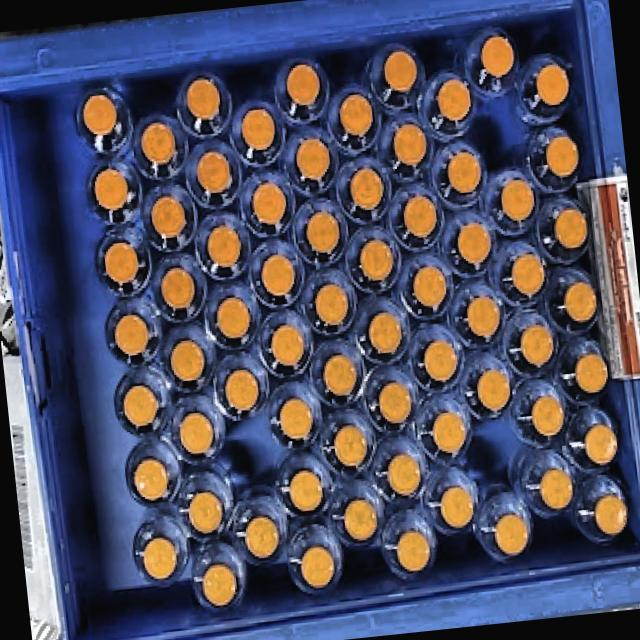vial: (78, 86, 124, 140), (178, 72, 224, 124), (497, 174, 539, 228), (426, 410, 472, 458), (174, 410, 218, 460), (578, 420, 622, 470), (310, 278, 353, 329), (119, 380, 160, 433), (418, 338, 462, 387), (388, 118, 431, 168), (274, 392, 317, 442), (291, 135, 333, 186), (184, 488, 225, 540), (548, 206, 592, 254), (164, 336, 208, 384), (319, 350, 362, 399), (542, 132, 584, 182), (409, 261, 450, 312), (584, 492, 630, 537), (454, 220, 495, 270), (267, 320, 308, 370), (437, 483, 477, 534), (254, 252, 298, 298), (247, 181, 290, 228), (503, 250, 546, 297), (192, 150, 234, 198), (516, 322, 558, 370), (463, 292, 503, 342), (536, 464, 576, 514), (284, 58, 322, 110), (158, 264, 199, 312), (238, 104, 278, 153), (130, 457, 168, 508), (224, 365, 262, 416), (532, 64, 574, 110), (138, 118, 178, 166), (90, 167, 130, 215), (102, 238, 142, 286), (286, 468, 326, 516), (392, 525, 432, 573), (331, 421, 371, 469), (571, 350, 611, 398), (296, 546, 338, 591), (347, 165, 387, 212), (445, 148, 484, 196), (401, 194, 440, 242), (203, 224, 242, 272), (148, 190, 185, 240), (434, 78, 474, 124), (384, 450, 424, 496), (340, 497, 379, 544), (492, 509, 531, 556), (114, 310, 150, 360), (243, 513, 282, 559), (479, 32, 516, 80), (140, 538, 178, 584), (200, 560, 238, 606), (356, 238, 394, 284), (338, 94, 374, 142), (560, 282, 600, 325), (384, 50, 421, 96), (306, 208, 342, 255), (214, 298, 252, 342), (476, 366, 511, 411), (366, 312, 403, 353), (528, 396, 564, 438)
